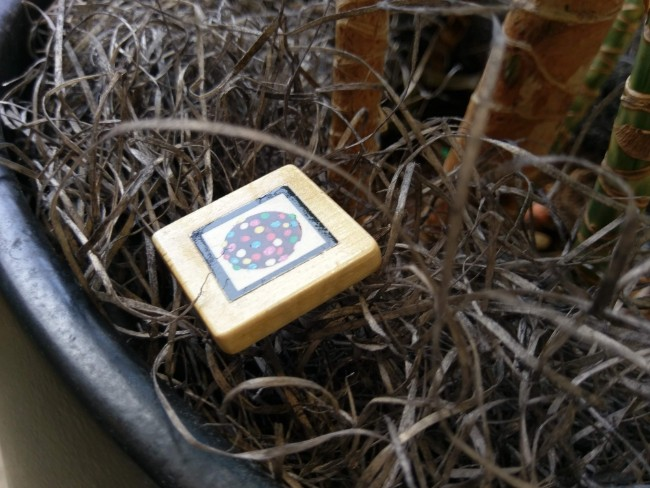cookie: (179, 184, 346, 307)
